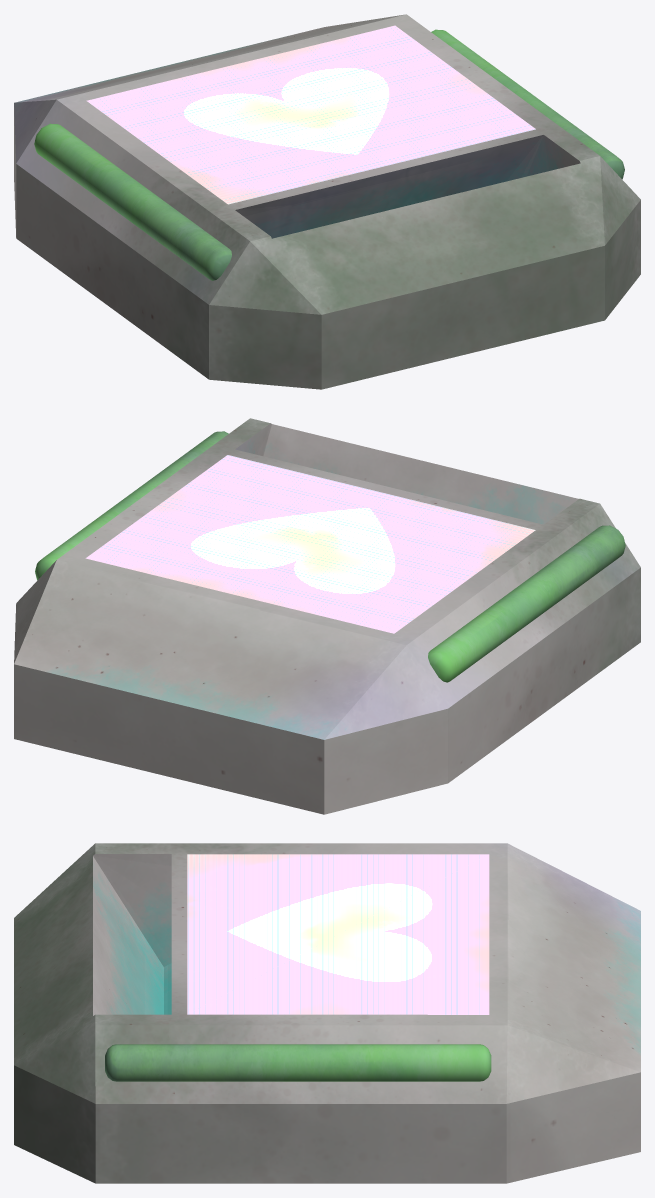
File: HealthConsole.glb
3 views of the same model, one above another, from view 1: azimuth 30°, elevation 25°; view 2: azimuth 150°, elevation 25°; view 3: azimuth 270°, elevation 25° (orthographic). The views are drawn at different scales.
Visible parts, largest first — view 1: Plane, Plane.004, Cylinder, Cylinder.001; view 2: Plane, Plane.004, Cylinder, Cylinder.001; view 3: Plane, Plane.004, Cylinder.001.
Boxes of the visible parts, left/top/right/bottom form: Plane: left=14, top=14, right=640, bottom=389; Plane.004: left=86, top=25, right=535, bottom=204; Cylinder: left=34, top=123, right=231, bottom=280; Cylinder.001: left=431, top=29, right=624, bottom=179; Plane: left=14, top=418, right=640, bottom=814; Plane.004: left=85, top=455, right=535, bottom=633; Cylinder: left=428, top=525, right=625, bottom=682; Cylinder.001: left=35, top=431, right=228, bottom=580; Plane: left=14, top=843, right=640, bottom=1183; Plane.004: left=187, top=854, right=489, bottom=1014; Cylinder.001: left=105, top=1044, right=491, bottom=1081.
Bounding box in the file's own units: 1.31 × 0.3735 × 1.55.
3 materials, 2 textured.
